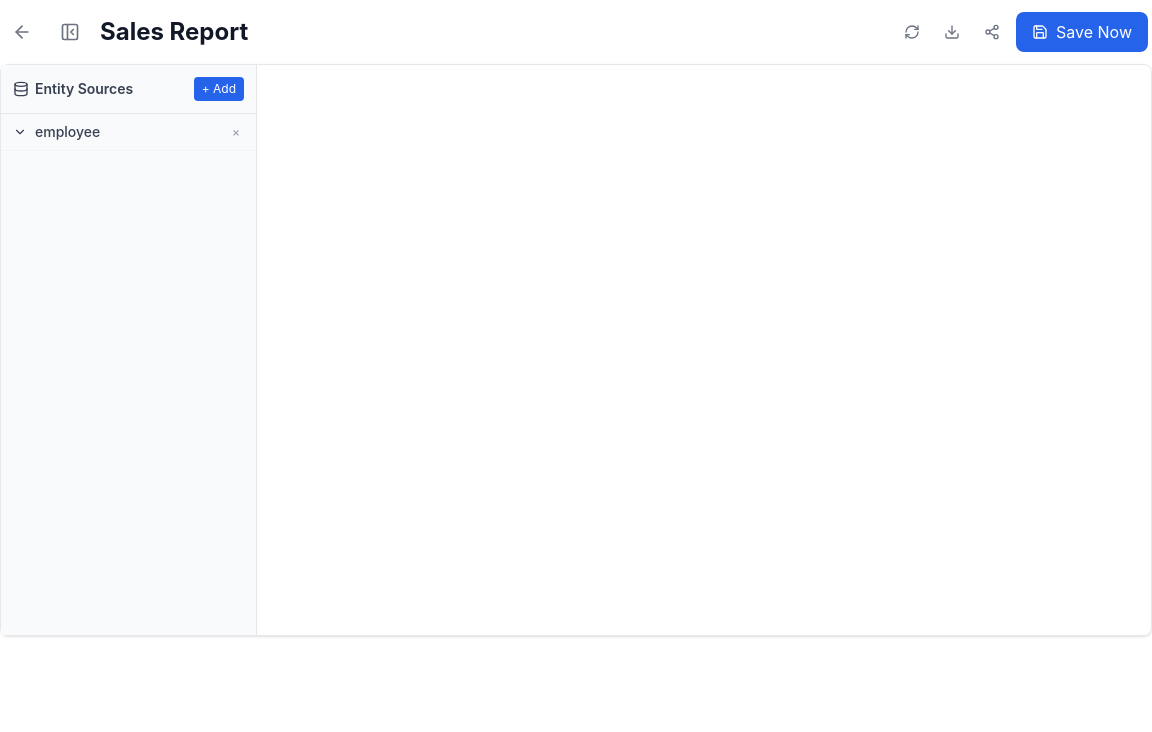
Test: RfSheetPage — existing sheet › shows error indicator on failed update
Click the button "Save Now" at (1082, 32), box left=1016, top=12, right=1148, bottom=52
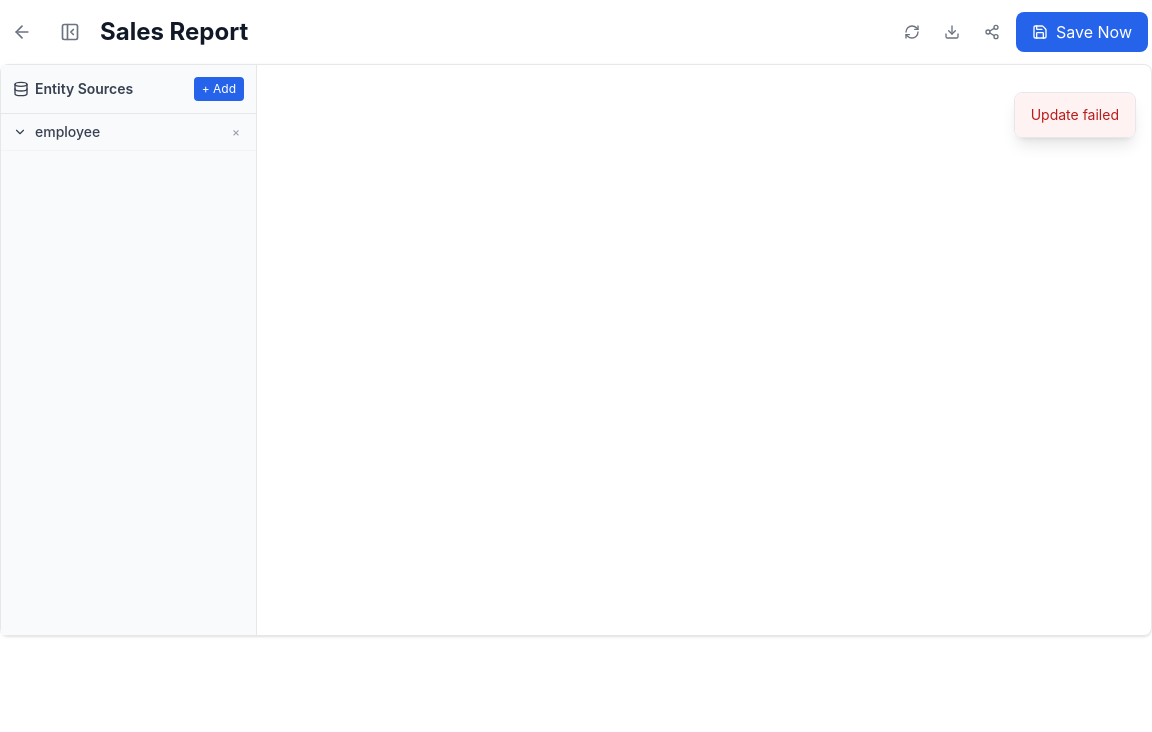
Expected: the text "Update failed" is shown, left=1015, top=93, right=1135, bottom=137
